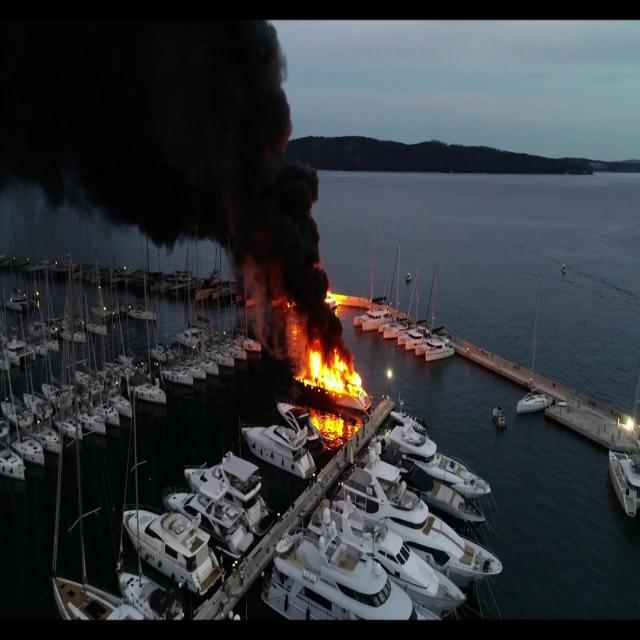Fire: (290, 336, 371, 439)
Smoke: (0, 1, 330, 277)
